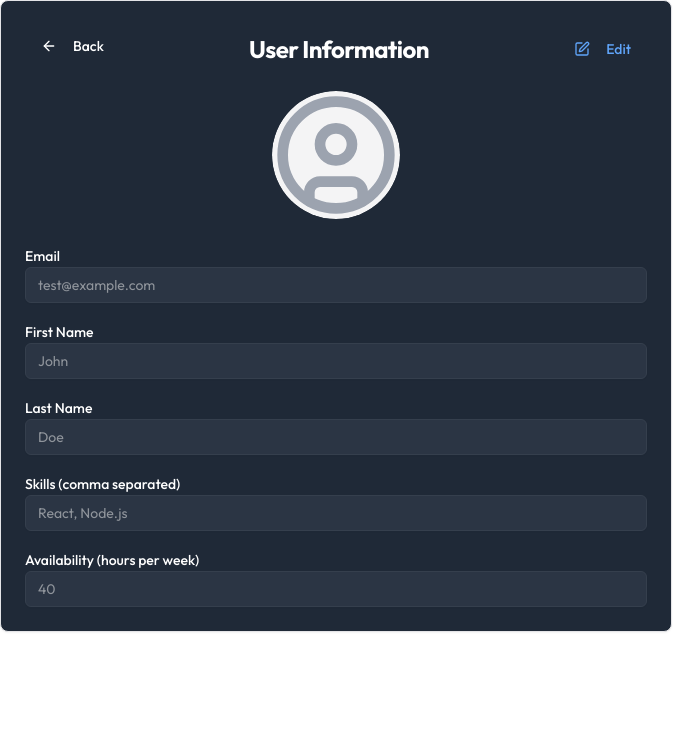
Scenario: UserInfo Component › enables edit mode when clicking "Edit"
This screenshot has width=689, height=753.
Click the button "Edit". click: (602, 49)
box: [558,31,647,67]
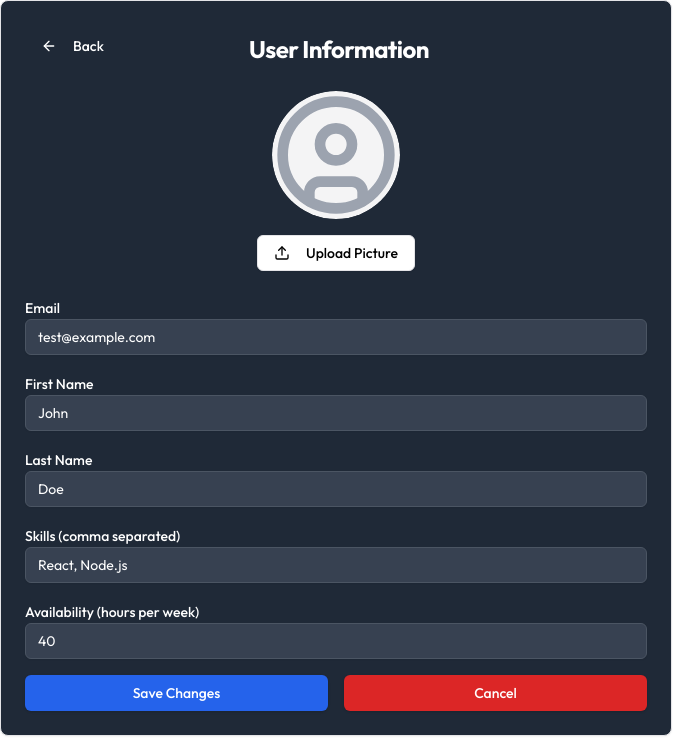
Check: the field labelled "Email" is enabled, box [25,319,647,355]
Check: the button "Save Changes" is shown, box [25,675,328,711]
Check: the button "Cancel" is shown, box [344,675,647,711]
